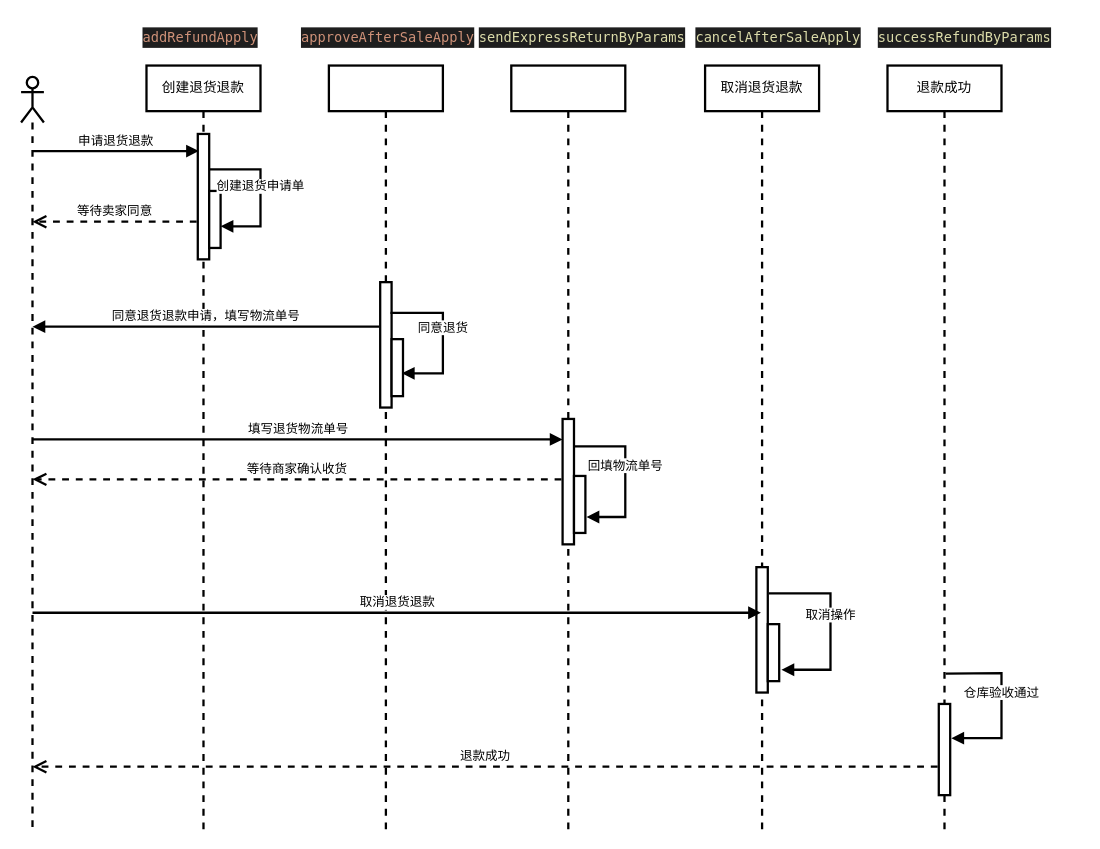
This 1100x849 diagram has some shape labels left out. The shapes that lost their labels are listed below. From the top down, each one's box as (x1, y1, x2, y2) in pixels, then its label:
(327, 64, 443, 830): 同意退货退款
(510, 64, 626, 830): 买家退回商品
